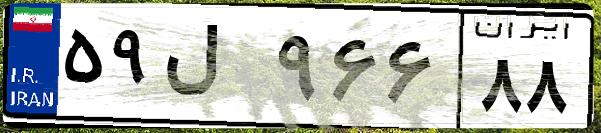5: (57, 26, 110, 100)
6: (385, 28, 445, 110), (330, 28, 385, 110)
8: (475, 38, 525, 113), (525, 38, 570, 115)
9: (270, 28, 330, 110), (110, 28, 158, 98)
ل: (158, 20, 270, 120)
